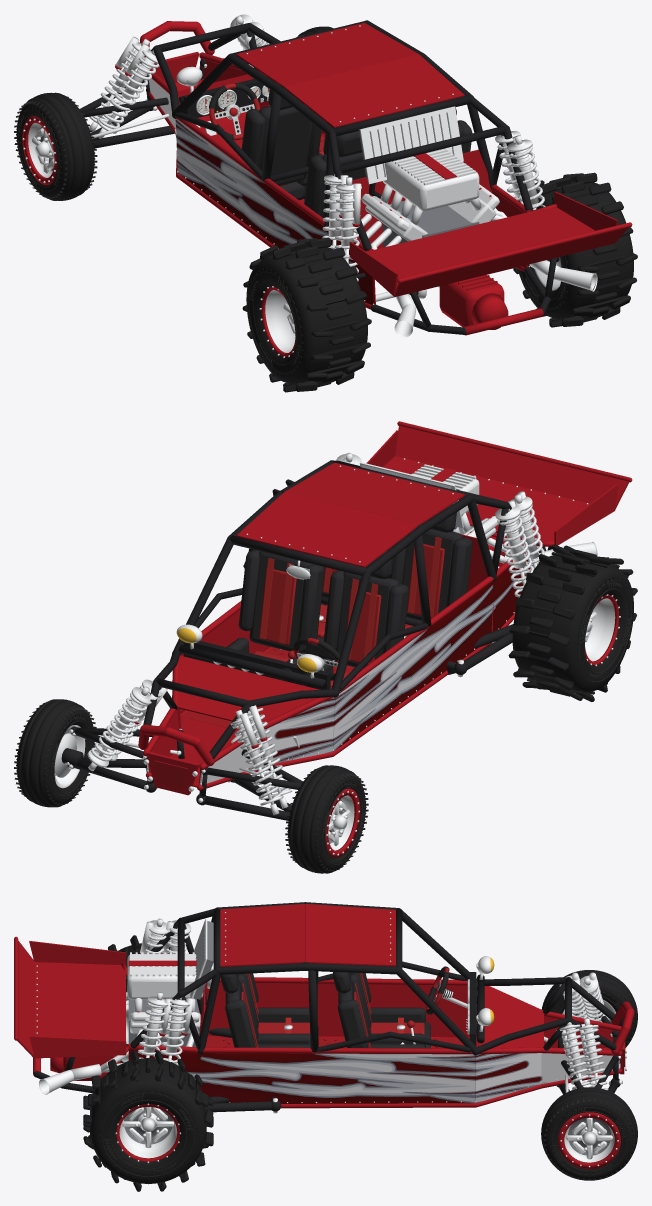
Rendered from sandcar.glb.
The picture shows the model from 3 angles, top to bottom: view 1: azimuth 30°, elevation 25°; view 2: azimuth 150°, elevation 25°; view 3: azimuth 270°, elevation 25°; orthographic projection. The views are drawn at different scales.
Parts seen in each view (by area): view 1: Chassis_Mesh, Wheel_RL_Mesh, Wheel_RR_Mesh, Wheel_FL_Mesh, Shock_FL_Mesh, Shock_RL_2_Mesh, Shock_RR_2_Mesh, Shock_FL_2_Mesh, SteeringWheel_Mesh, Shock_RL_Mesh, Link_FL_Lower_0, Shock_RR_Mesh (+1 smaller); view 2: Chassis_Mesh, Wheel_RL_Mesh, Wheel_FL_Mesh, Wheel_FR_Mesh, Shock_FR_2_Mesh, Shock_RL_Mesh, Shock_FL_2_Mesh, Shock_FL_Mesh, Shock_RL_2_Mesh, Link_FL_Lower_2, Link_FR_Lower_2, Link_RL_Lower_2 (+1 smaller); view 3: Chassis_Mesh, Wheel_RR_Mesh, Wheel_FR_Mesh, Wheel_FL_Mesh, Shock_RR_2_Mesh, Shock_RR_Mesh, Shock_FR_2_Mesh, Shock_FR_Mesh, Link_RR_Lower_2, Shock_RL_2_Mesh, Shock_FL_2_Mesh, SteeringWheel_Mesh (+2 smaller).
Boxes of the visible parts, x1,y1,x2,y2 form: Chassis_Mesh: [140, 20, 632, 337]; Wheel_RL_Mesh: [242, 237, 371, 392]; Wheel_RR_Mesh: [513, 172, 637, 327]; Wheel_FL_Mesh: [14, 92, 97, 200]; Shock_FL_Mesh: [96, 43, 159, 138]; Shock_RL_2_Mesh: [334, 177, 361, 281]; Shock_RR_2_Mesh: [507, 135, 545, 210]; Shock_FL_2_Mesh: [89, 36, 150, 132]; SteeringWheel_Mesh: [209, 83, 260, 140]; Shock_RL_Mesh: [322, 174, 348, 253]; Link_FL_Lower_0: [92, 125, 174, 148]; Shock_RR_Mesh: [495, 131, 523, 204]; Chassis_Mesh: [138, 421, 632, 796]; Wheel_RL_Mesh: [508, 544, 637, 701]; Wheel_FL_Mesh: [285, 765, 368, 873]; Wheel_FR_Mesh: [14, 699, 96, 807]; Shock_FR_2_Mesh: [87, 686, 157, 771]; Shock_RL_Mesh: [495, 500, 533, 597]; Shock_FL_2_Mesh: [230, 710, 282, 814]; Shock_FL_Mesh: [247, 705, 291, 808]; Shock_RL_2_Mesh: [511, 491, 544, 575]; Link_FL_Lower_2: [196, 794, 289, 820]; Link_FR_Lower_2: [65, 760, 157, 792]; Link_RL_Lower_2: [454, 632, 512, 677]; Chassis_Mesh: [14, 902, 634, 1108]; Wheel_RR_Mesh: [83, 1050, 213, 1191]; Wheel_FR_Mesh: [541, 1087, 637, 1180]; Wheel_FL_Mesh: [541, 970, 637, 1047]; Shock_RR_2_Mesh: [137, 992, 172, 1058]; Shock_RR_Mesh: [160, 997, 193, 1065]; Shock_FR_2_Mesh: [578, 1018, 608, 1090]; Shock_FR_Mesh: [559, 1022, 590, 1089]; Link_RR_Lower_2: [206, 1098, 281, 1113]; Shock_RL_2_Mesh: [140, 918, 168, 953]; Shock_FL_2_Mesh: [579, 972, 608, 1022]; SteeringWheel_Mesh: [426, 966, 453, 1014].
Size of the model in its own units: 2.59 by 1.6 by 4.77.
Materials: 20 (2 with a texture image).
